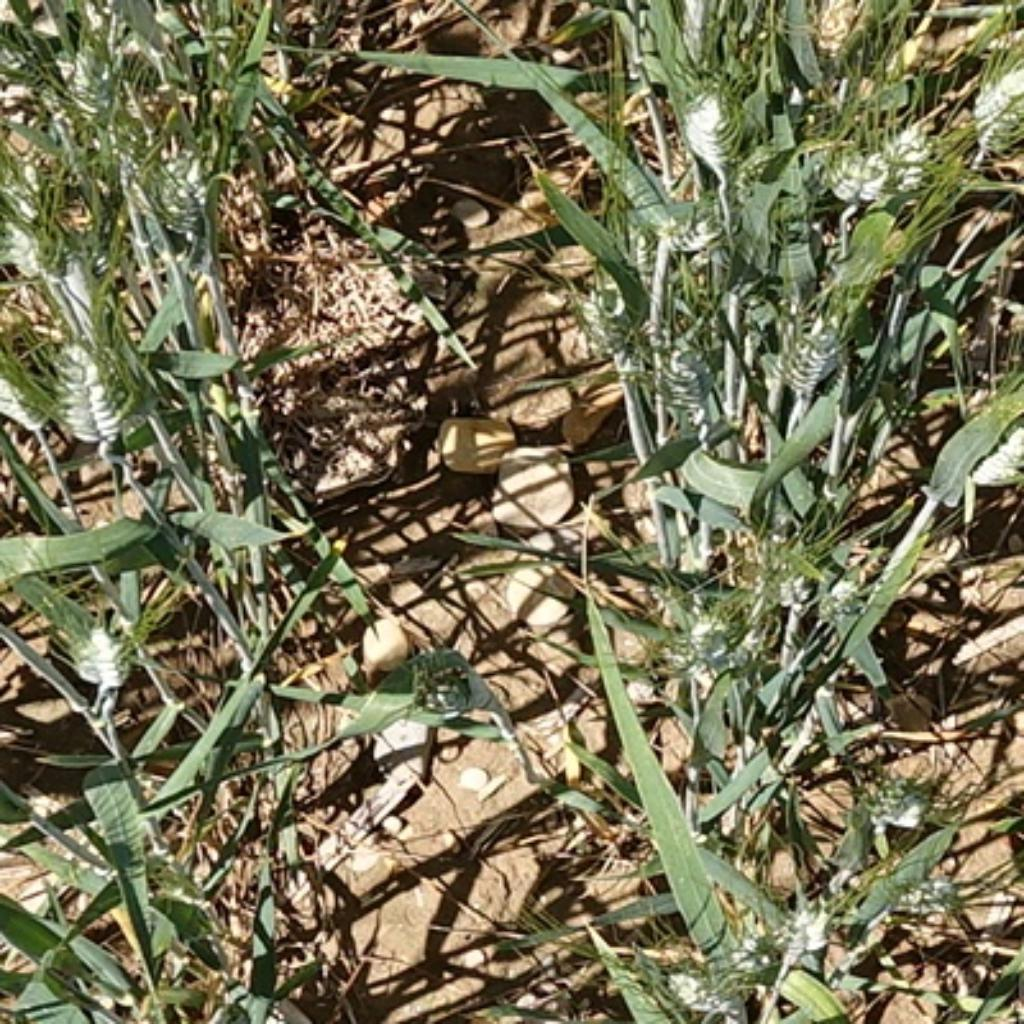0-0: (645, 573, 765, 683), (49, 50, 146, 185), (663, 76, 775, 189), (53, 609, 166, 704), (560, 245, 642, 368), (875, 839, 977, 936), (40, 339, 122, 442), (960, 25, 1024, 145), (650, 326, 714, 440), (816, 139, 911, 211), (857, 768, 946, 832), (649, 966, 749, 1019), (770, 888, 834, 967), (955, 414, 1024, 487), (776, 334, 852, 394), (162, 153, 216, 236), (811, 552, 875, 622), (0, 227, 58, 292), (654, 210, 726, 260)
